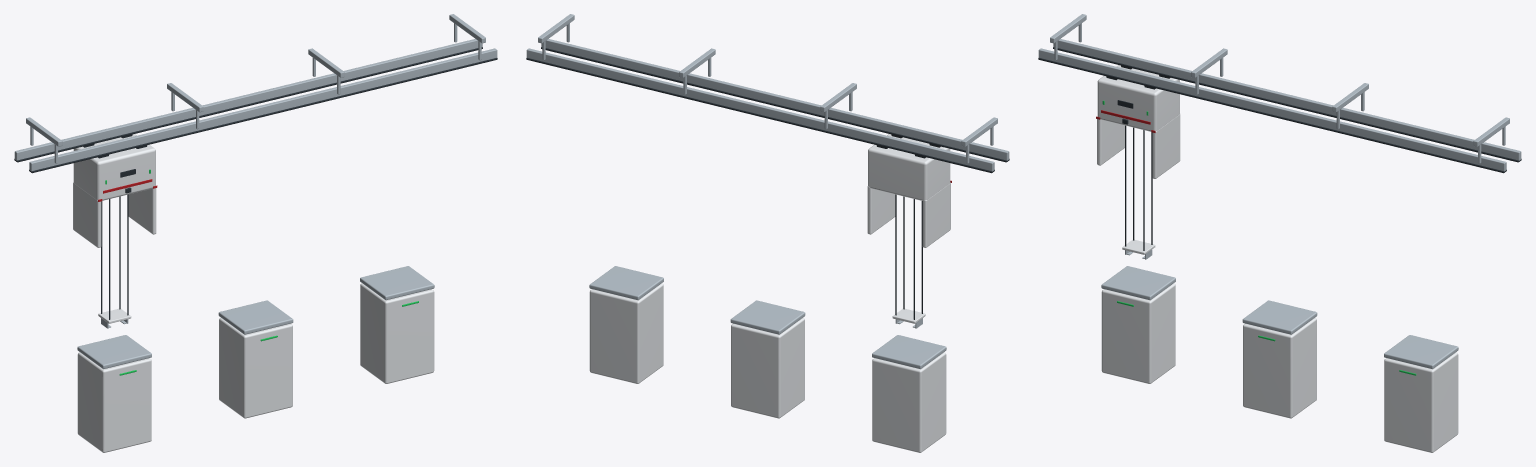
Rendered from OHT_System.fbx.
3 renders of one model, left to right at view 1: azimuth 30°, elevation 25°; view 2: azimuth 150°, elevation 25°; view 3: azimuth 330°, elevation 25°, orthographic.
Parts seen in each view (by area): view 1: IMP_LOADPORT_01_Cabinet, SOURCE_PORT_Cabinet, OX_LOADPORT_01_Cabinet, Rail_Running_Beam, Rail_Running_Beam.001, Main_Body, OX_LOADPORT_01_Deck, SOURCE_PORT_Deck, IMP_LOADPORT_01_Deck, Carrier_Side_Shroud, Rail_Contact_Surface, Rail_Contact_Surface.001 (+1 smaller); view 2: IMP_LOADPORT_01_Cabinet, SOURCE_PORT_Cabinet, OX_LOADPORT_01_Cabinet, Rail_Running_Beam.001, Rail_Running_Beam, Main_Body, OX_LOADPORT_01_Deck, SOURCE_PORT_Deck, IMP_LOADPORT_01_Deck, Carrier_Side_Shroud, Rail_Contact_Surface.001, Rail_Contact_Surface (+1 smaller); view 3: IMP_LOADPORT_01_Cabinet, SOURCE_PORT_Cabinet, OX_LOADPORT_01_Cabinet, Rail_Running_Beam, Rail_Running_Beam.001, Main_Body, OX_LOADPORT_01_Deck, IMP_LOADPORT_01_Deck, SOURCE_PORT_Deck, Carrier_Side_Shroud.001, Rail_Contact_Surface, Rail_Contact_Surface.001 (+1 smaller).
Boxes of the visible parts, box(x1,y1,x2,y2) form: IMP_LOADPORT_01_Cabinet: box(360, 283, 434, 383); SOURCE_PORT_Cabinet: box(77, 352, 151, 452); OX_LOADPORT_01_Cabinet: box(219, 318, 292, 418); Rail_Running_Beam: box(29, 48, 497, 171); Rail_Running_Beam.001: box(14, 39, 482, 160); Main_Body: box(73, 134, 155, 200); OX_LOADPORT_01_Deck: box(218, 300, 293, 334); SOURCE_PORT_Deck: box(77, 335, 151, 369); IMP_LOADPORT_01_Deck: box(360, 266, 434, 300); Carrier_Side_Shroud: box(73, 182, 101, 247); Rail_Contact_Surface: box(29, 58, 497, 173); Rail_Contact_Surface.001: box(14, 47, 482, 162); IMP_LOADPORT_01_Cabinet: box(589, 283, 663, 383); SOURCE_PORT_Cabinet: box(872, 352, 946, 452); OX_LOADPORT_01_Cabinet: box(731, 318, 804, 418); Rail_Running_Beam.001: box(526, 48, 994, 171); Rail_Running_Beam: box(541, 39, 1009, 160); Main_Body: box(868, 134, 950, 200); OX_LOADPORT_01_Deck: box(730, 300, 805, 334); SOURCE_PORT_Deck: box(872, 335, 946, 369); IMP_LOADPORT_01_Deck: box(589, 266, 663, 300); Carrier_Side_Shroud: box(922, 182, 950, 247); Rail_Contact_Surface.001: box(526, 58, 994, 173); Rail_Contact_Surface: box(541, 47, 1009, 162); IMP_LOADPORT_01_Cabinet: box(1384, 352, 1458, 452); SOURCE_PORT_Cabinet: box(1101, 283, 1175, 383); OX_LOADPORT_01_Cabinet: box(1243, 318, 1316, 418); Rail_Running_Beam: box(1038, 48, 1506, 171); Rail_Running_Beam.001: box(1053, 39, 1521, 160); Main_Body: box(1097, 65, 1179, 131); OX_LOADPORT_01_Deck: box(1242, 300, 1317, 334); IMP_LOADPORT_01_Deck: box(1384, 335, 1458, 369); SOURCE_PORT_Deck: box(1101, 266, 1175, 300); Carrier_Side_Shroud.001: box(1152, 113, 1180, 178); Rail_Contact_Surface: box(1038, 58, 1506, 173); Rail_Contact_Surface.001: box(1053, 47, 1521, 162).
Size of the model in its own units: 660 by 442 by 80.
